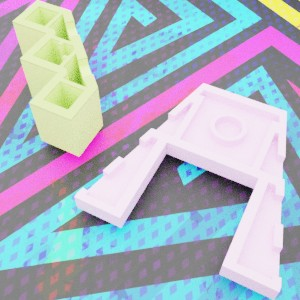lego: (74, 83, 286, 300), (12, 0, 103, 156)
